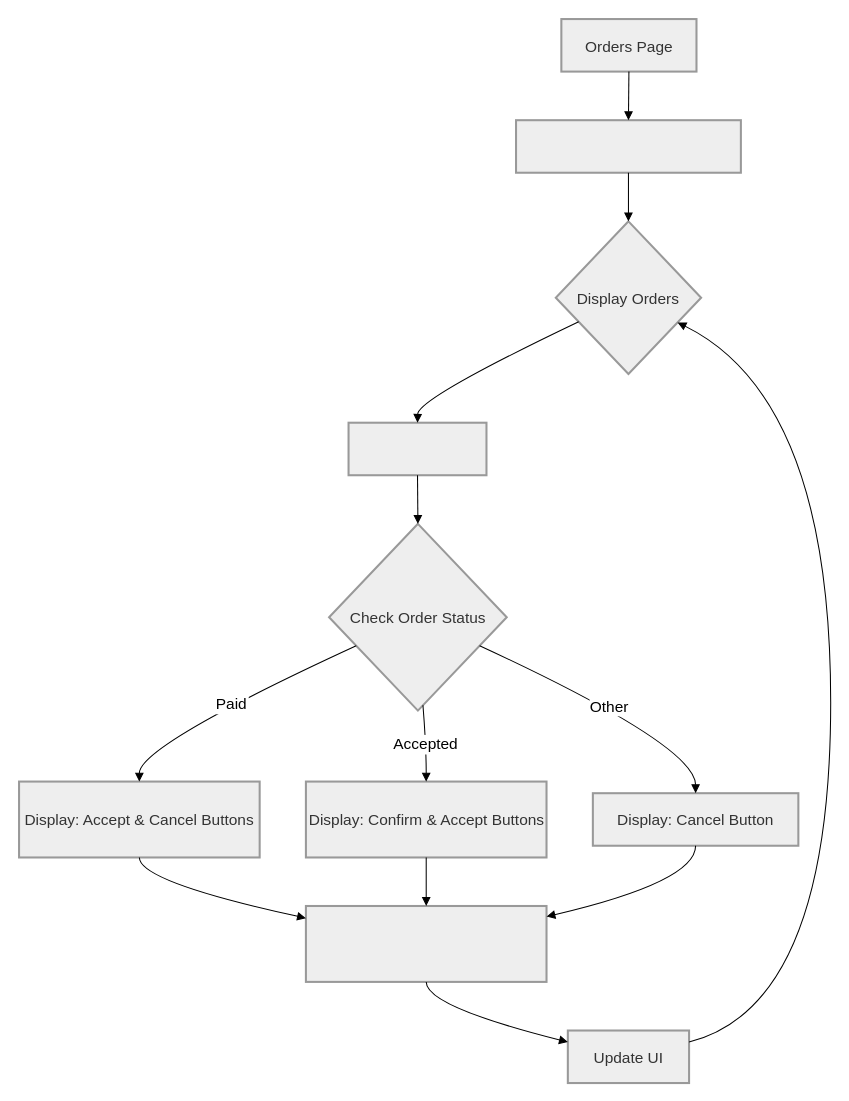
The diagram is 849 pixels wide and 1101 high, and some of its shapes have lost their labels. Each missing label, with the centre of its shape:
Order-Modal: the point at 417,448
OrderManager: Load Data: the point at 627,146
ProductManager: updateStatus: the point at 425,943
